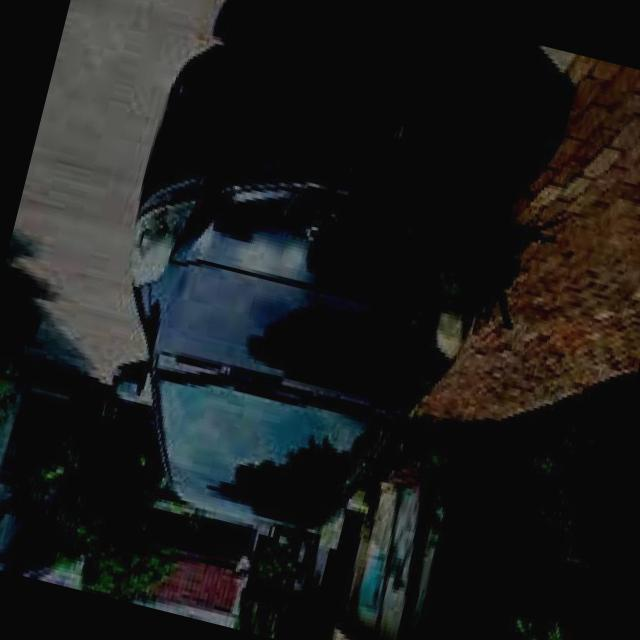ToyotaVios: (66, 0, 587, 581)
